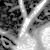node: (35, 25, 50, 50), (16, 32, 36, 50)
